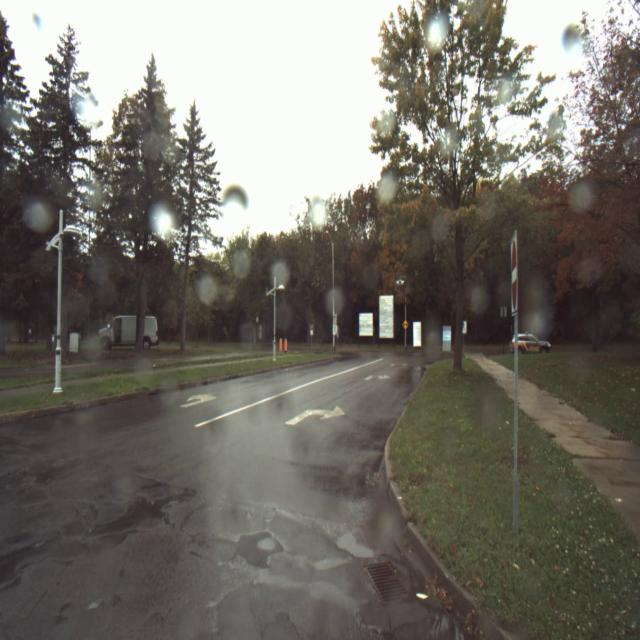car: (512, 333, 552, 356)
